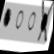not correct: (31, 0, 54, 46), (0, 6, 13, 30)
